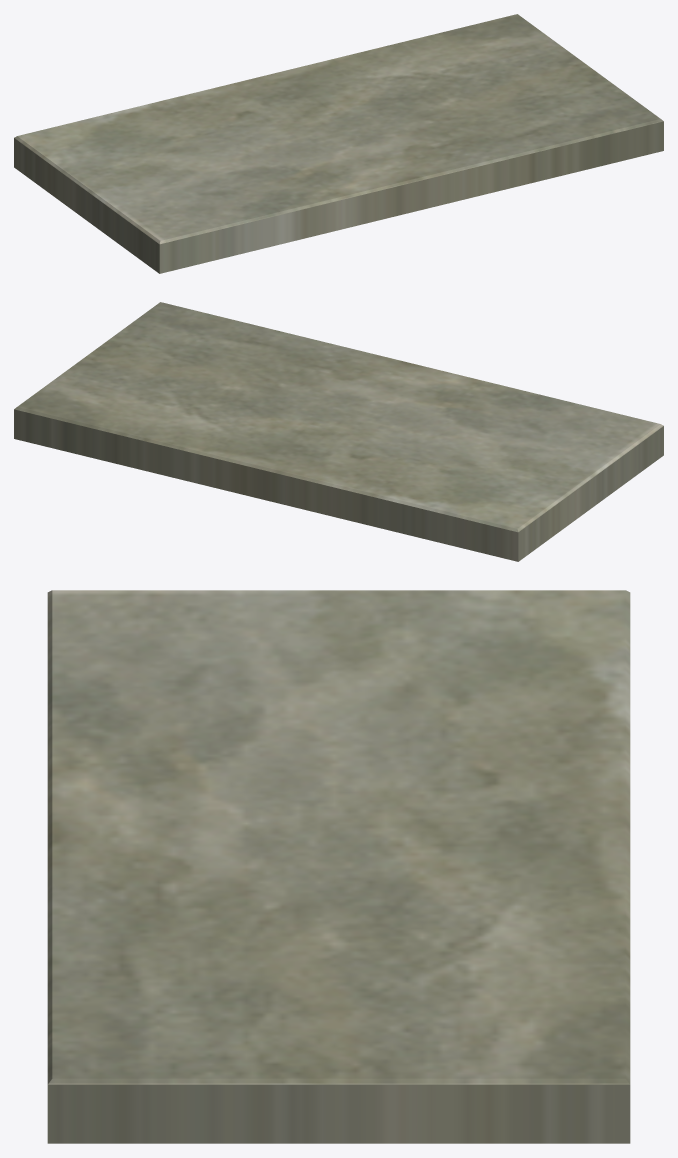
The model's file is f03-t-stone-half-second.glb.
3 renders of one model, top to bottom at view 1: azimuth 30°, elevation 25°; view 2: azimuth 150°, elevation 25°; view 3: azimuth 270°, elevation 25°, orthographic. The views are drawn at different scales.
Parts seen in each view (by area): view 1: f03-t-stone-half-second; view 2: f03-t-stone-half-second; view 3: f03-t-stone-half-second.
Part boxes in pixels (left/top/right/bottom): f03-t-stone-half-second: left=14, top=14, right=663, bottom=273; f03-t-stone-half-second: left=14, top=302, right=663, bottom=561; f03-t-stone-half-second: left=47, top=590, right=630, bottom=1143.
Bounding box in the file's own units: 1 × 0.06 × 0.5.
1 material, 1 textured.
